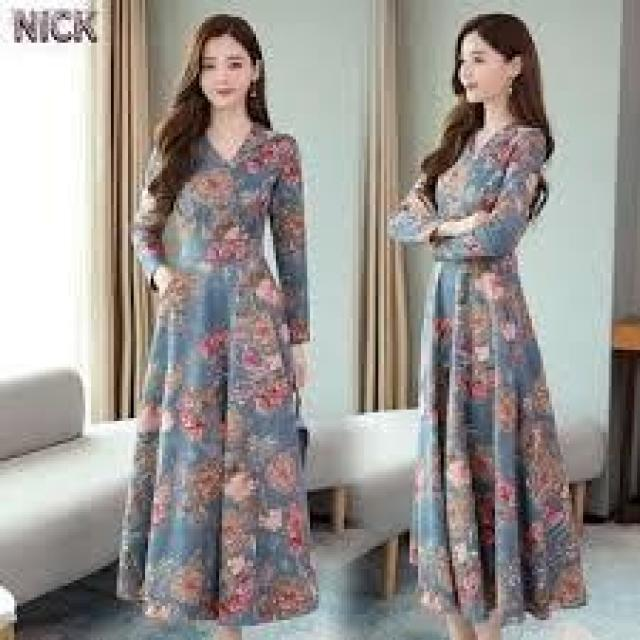dress: (117, 121, 327, 630), (381, 120, 575, 634)
